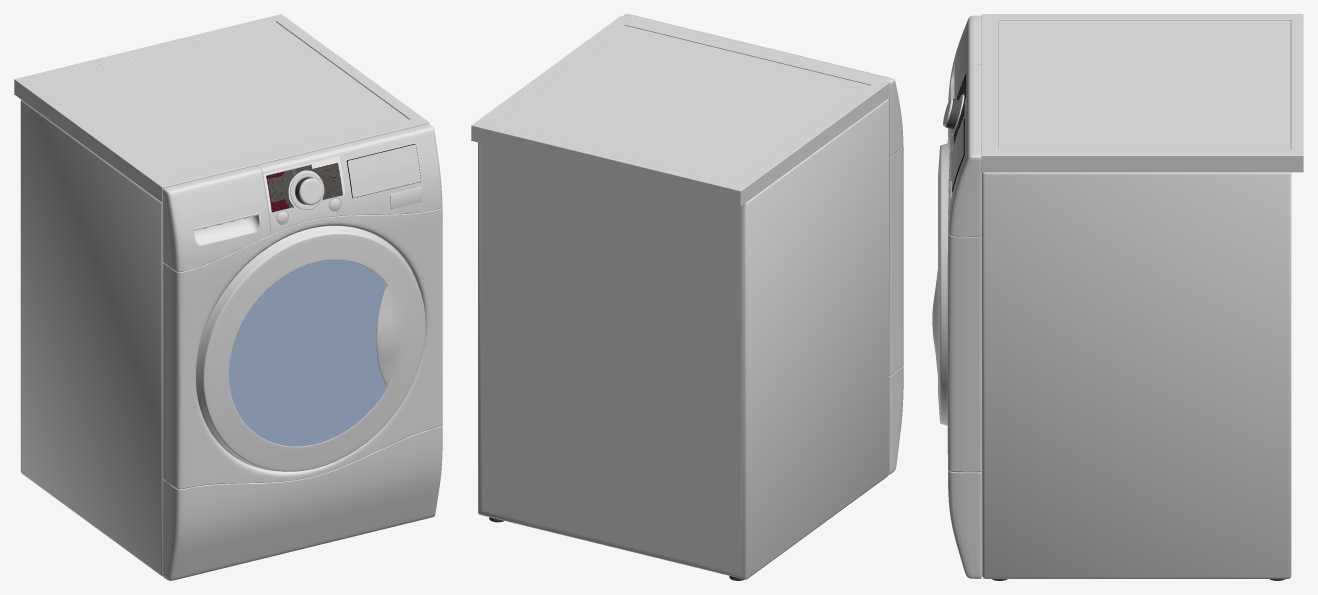
Rendered from WashingMachine.fbx.
3 renders of one model, left to right at view 1: azimuth 30°, elevation 25°; view 2: azimuth 150°, elevation 25°; view 3: azimuth 270°, elevation 25°, orthographic. The views are drawn at different scales.
Parts seen in each view (by area): view 1: Cube.001, Plane, Cube.002, Puerta.002, Puerta, Cube.009, Plane.001, Cylinder.002; view 2: Plane, Cube.002, Cube.001; view 3: Plane, Cube.002, Cube.001, Puerta, Cube.009, Cylinder.002.
Boxes of the visible parts, x1,y1,x2,y2 form: Cube.001: (162,124,442,580); Plane: (20,100,162,576); Cube.002: (14,14,429,202); Puerta.002: (229,260,387,446); Puerta: (196,226,425,471); Cube.009: (346,144,420,198); Plane.001: (263,156,345,212); Cylinder.002: (290,171,323,209); Plane: (478,98,888,579); Cube.002: (471,16,890,206); Cube.001: (622,14,903,474); Plane: (982,172,1291,578); Cube.002: (981,14,1303,172); Cube.001: (947,15,981,578); Puerta: (932,143,949,425); Cube.009: (951,119,964,191); Cylinder.002: (943,95,964,135).
Bounding box in the file's own units: 490 × 692 × 543.
